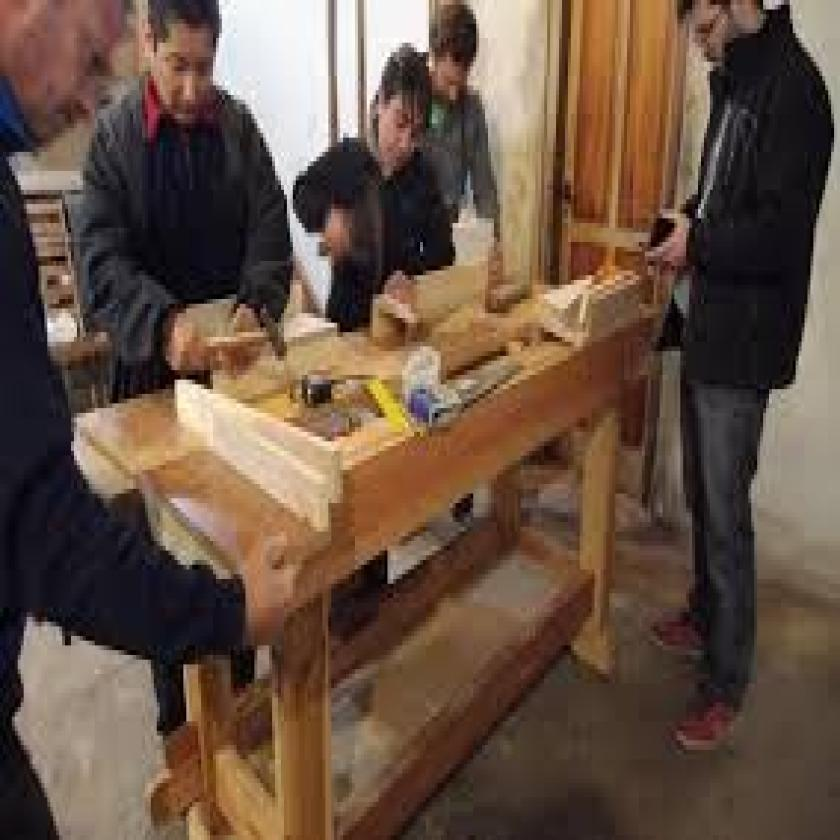Sin_casco: (372, 36, 435, 184), (423, 3, 481, 122)
